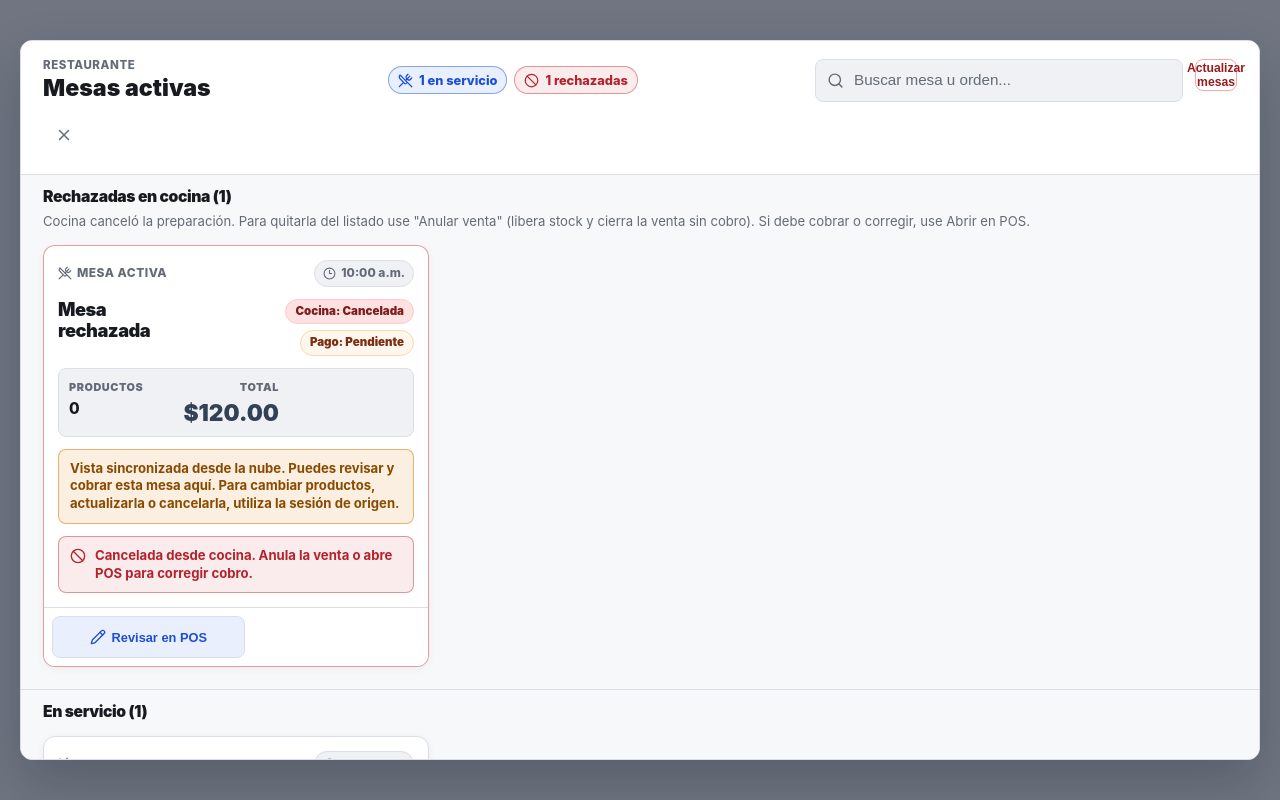
Scenario: QA-19 multi-device table discovery › refresh and search cover Cloud-only tables; cancelled kitchen rows appear in one section
Expected: the text "1 en servicio" is shown, [388,66,507,94]
Expected: the text "1 rechazadas" is shown, [514,66,638,94]
In the search field with placeholder "Buscar mesa u orden...": (999,80) [815,59,1183,102], type "QA-19"
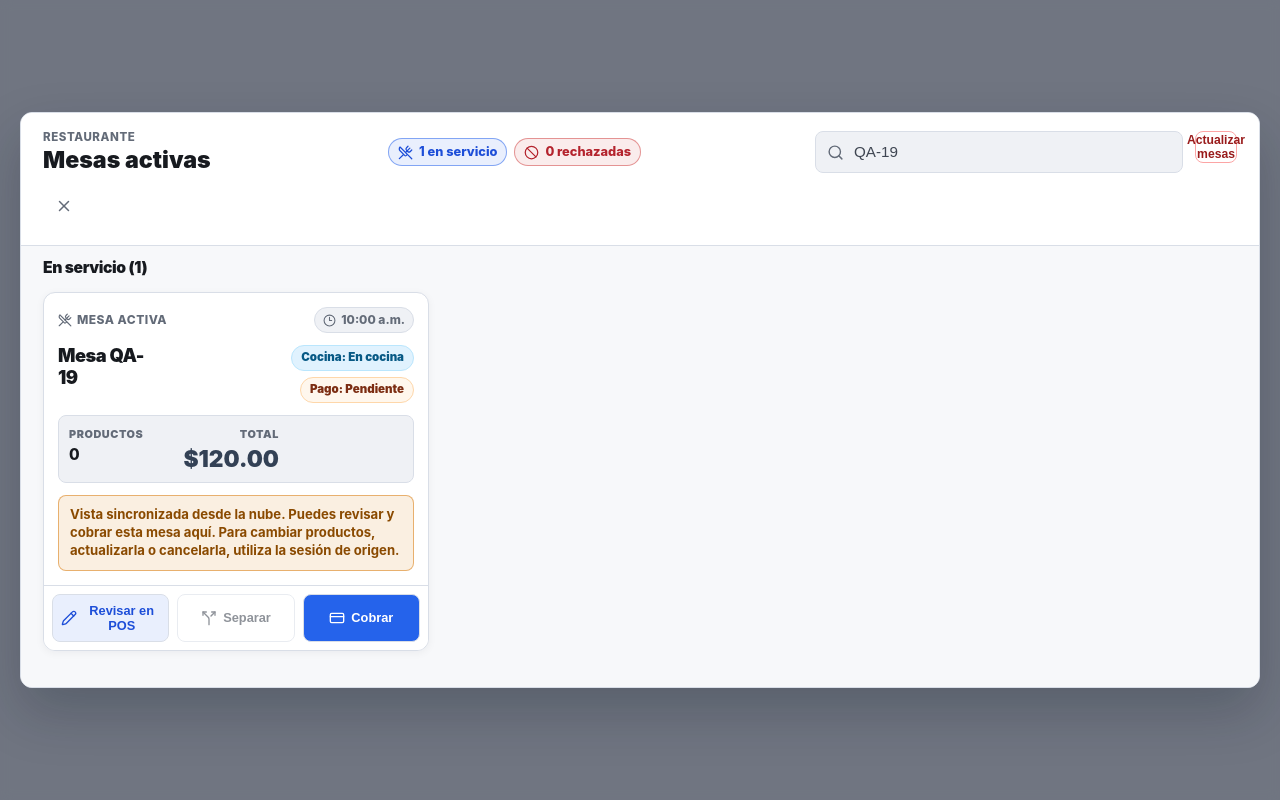
Now the heading "Mesa QA-19" is shown, box [58,344,144,388]
Now the heading "Mesa rechazada" is gone
Click the button "Actualizar mesas": (1216,147) [1195,131,1237,163]
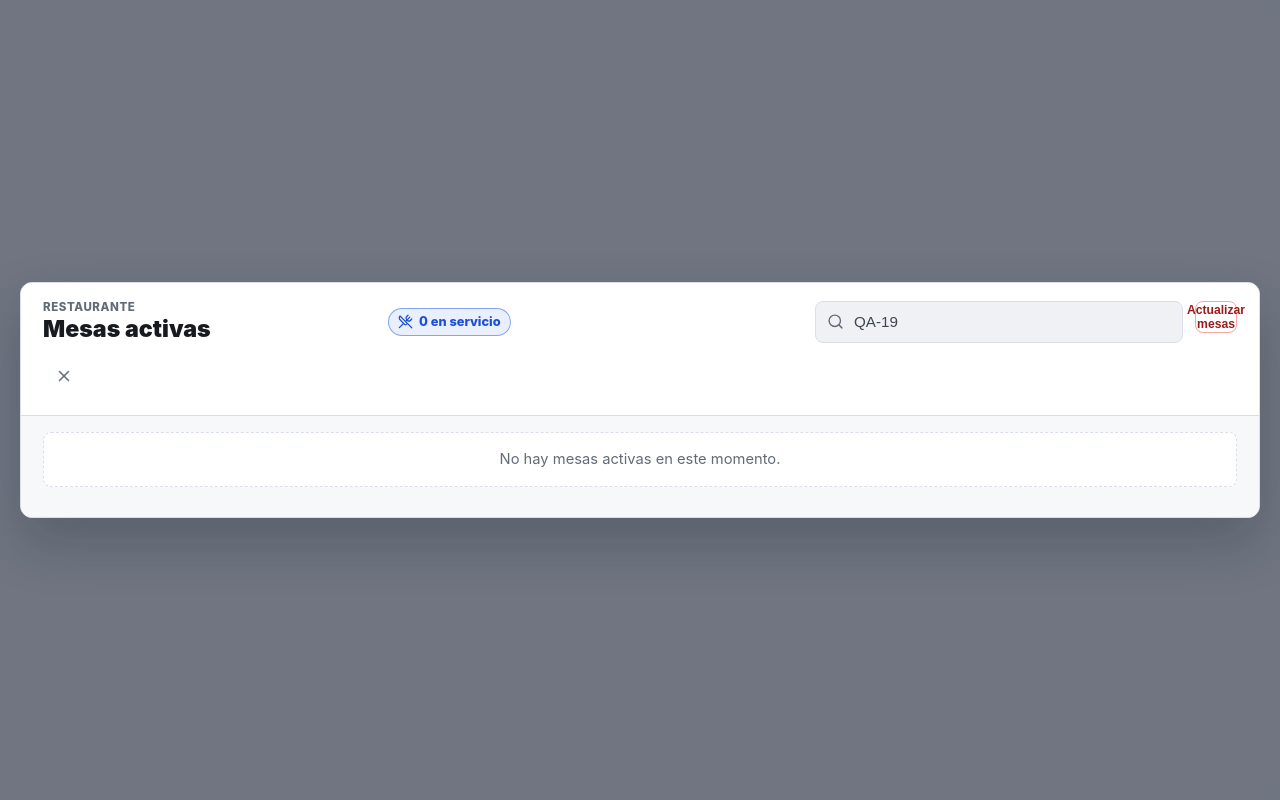
Now the heading "Mesa QA-19" is gone
